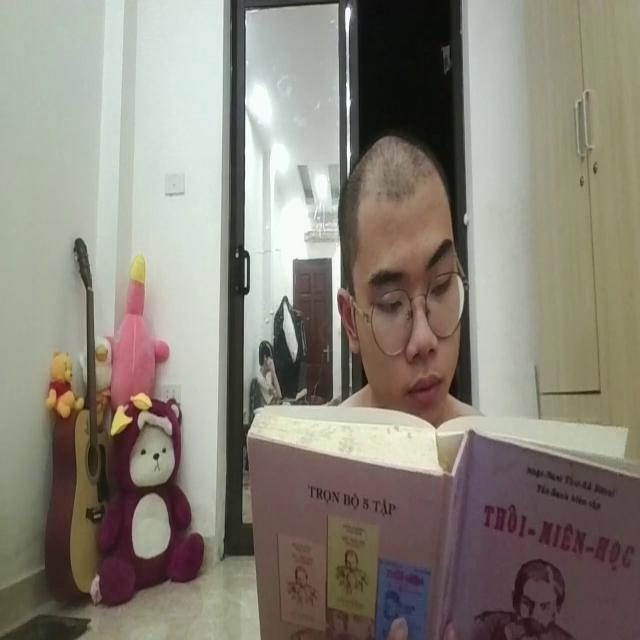book: (242, 397, 640, 640)
extra_person: (256, 336, 292, 414)
student: (337, 136, 476, 426)
